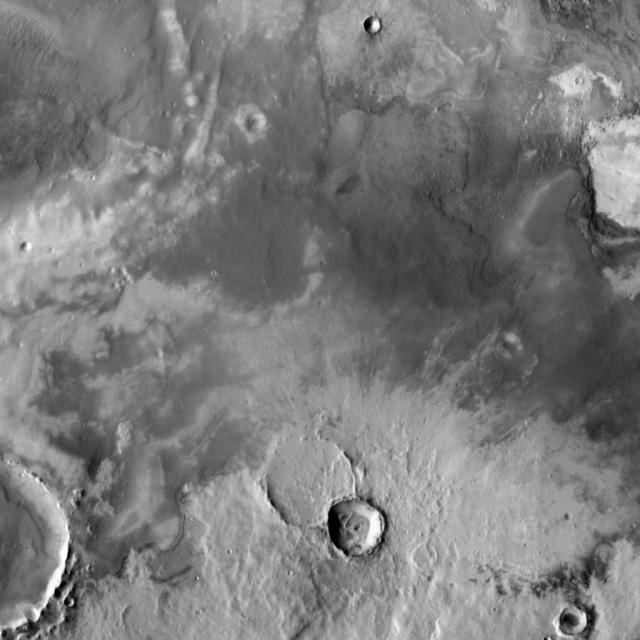crater: (0, 0, 208, 275), (266, 436, 356, 526), (326, 496, 384, 554), (559, 606, 588, 634), (414, 544, 437, 568), (244, 110, 266, 132), (500, 335, 521, 356), (110, 234, 129, 253), (364, 15, 381, 32), (21, 241, 34, 253), (559, 0, 573, 11), (209, 268, 220, 280), (66, 596, 77, 606), (154, 348, 164, 357), (162, 108, 170, 116), (575, 76, 583, 84), (557, 504, 565, 512), (102, 258, 109, 266), (42, 239, 49, 246), (46, 251, 53, 258), (111, 279, 118, 286), (543, 635, 552, 640), (173, 162, 179, 168), (10, 336, 16, 342), (189, 602, 195, 608)
